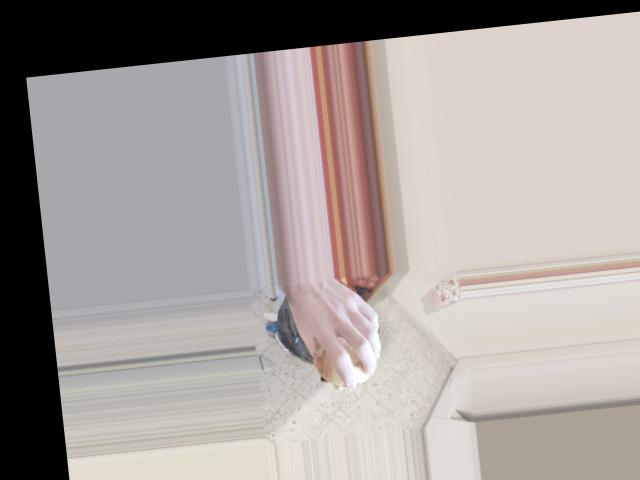onion: (313, 329, 376, 389)
